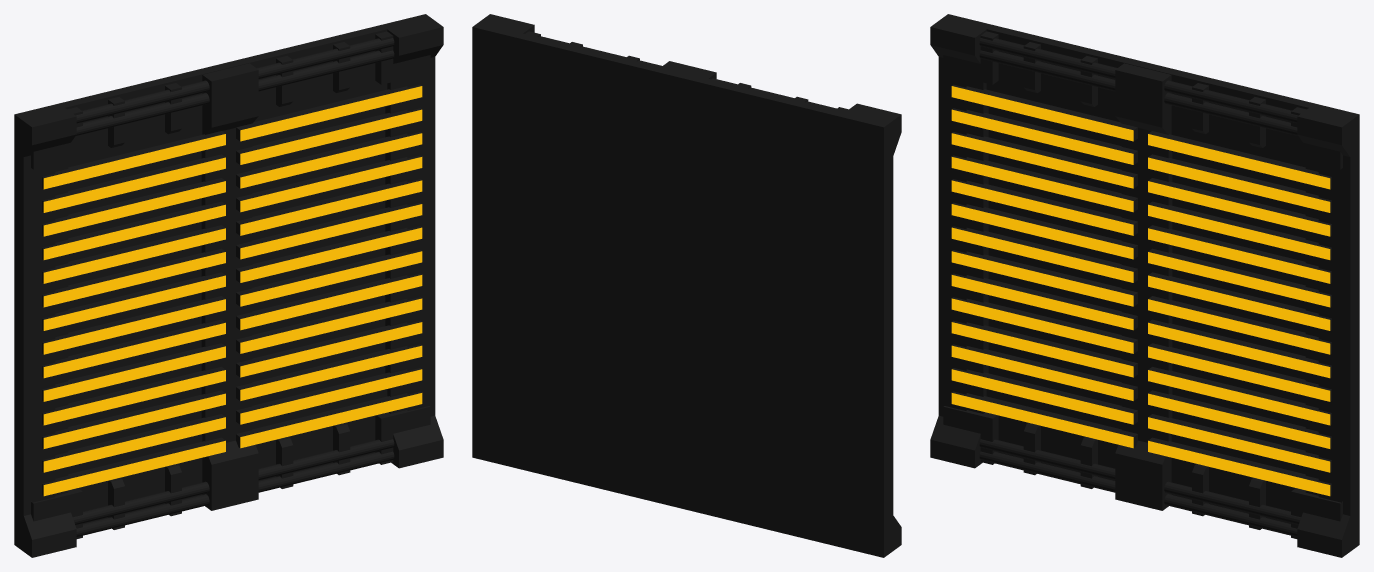
The model's file is damage_platform.glb.
3 renders of one model, left to right at view 1: azimuth 30°, elevation 25°; view 2: azimuth 150°, elevation 25°; view 3: azimuth 330°, elevation 25°, orthographic.
Parts seen in each view (by area): view 1: decorative_wall_1_LOD0.002; view 2: decorative_wall_1_LOD0.002; view 3: decorative_wall_1_LOD0.002.
Boxes of the visible parts, x1,y1,x2,y2 form: decorative_wall_1_LOD0.002: (14, 14, 443, 557); decorative_wall_1_LOD0.002: (472, 14, 901, 557); decorative_wall_1_LOD0.002: (930, 14, 1359, 557).
Size of the model in its own units: 4 by 4 by 0.2987.
